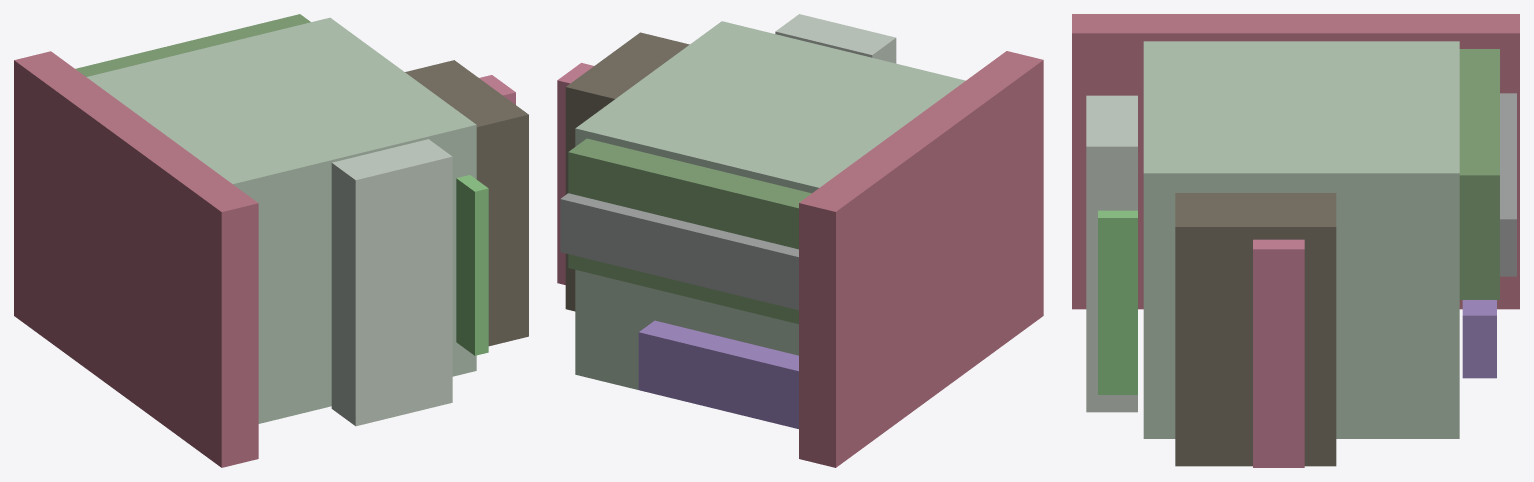
The picture shows the model from 3 angles, left to right: view 1: azimuth 30°, elevation 25°; view 2: azimuth 150°, elevation 25°; view 3: azimuth 270°, elevation 25°; orthographic projection. The views are drawn at different scales.
Parts seen in each view (by area): view 1: world; view 2: world; view 3: world.
Boxes of the visible parts, x1,y1,x2,y2 form: world: (14, 14, 528, 467); world: (557, 14, 1043, 467); world: (1072, 14, 1519, 467).
Bounding box in the file's own units: 8.2 × 5.3 × 7.8.
